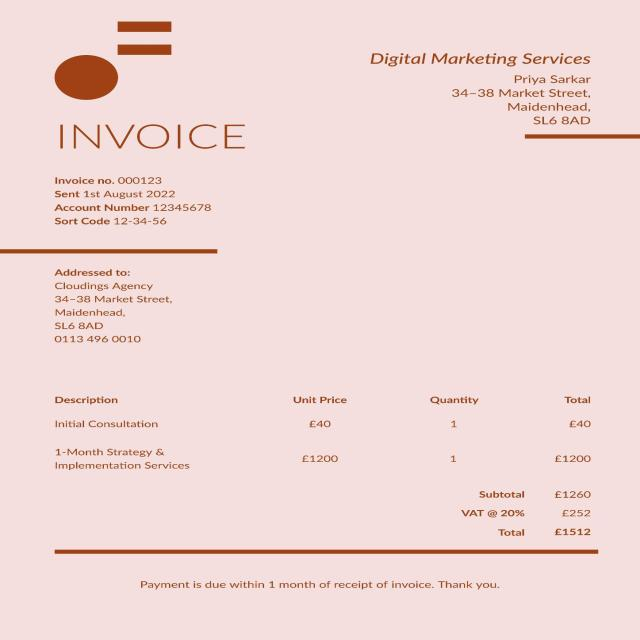paragraph: (362, 44, 607, 129), (39, 258, 182, 350), (42, 167, 226, 230), (129, 572, 506, 598), (451, 486, 606, 544), (45, 119, 258, 159)
table: (26, 375, 618, 477)
